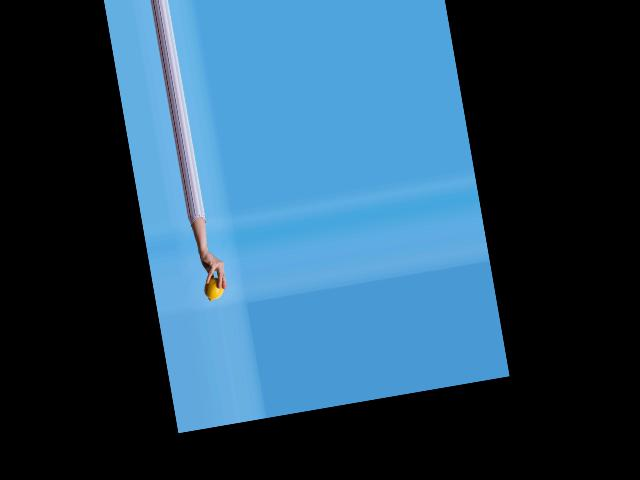lemon: (199, 266, 240, 303)
